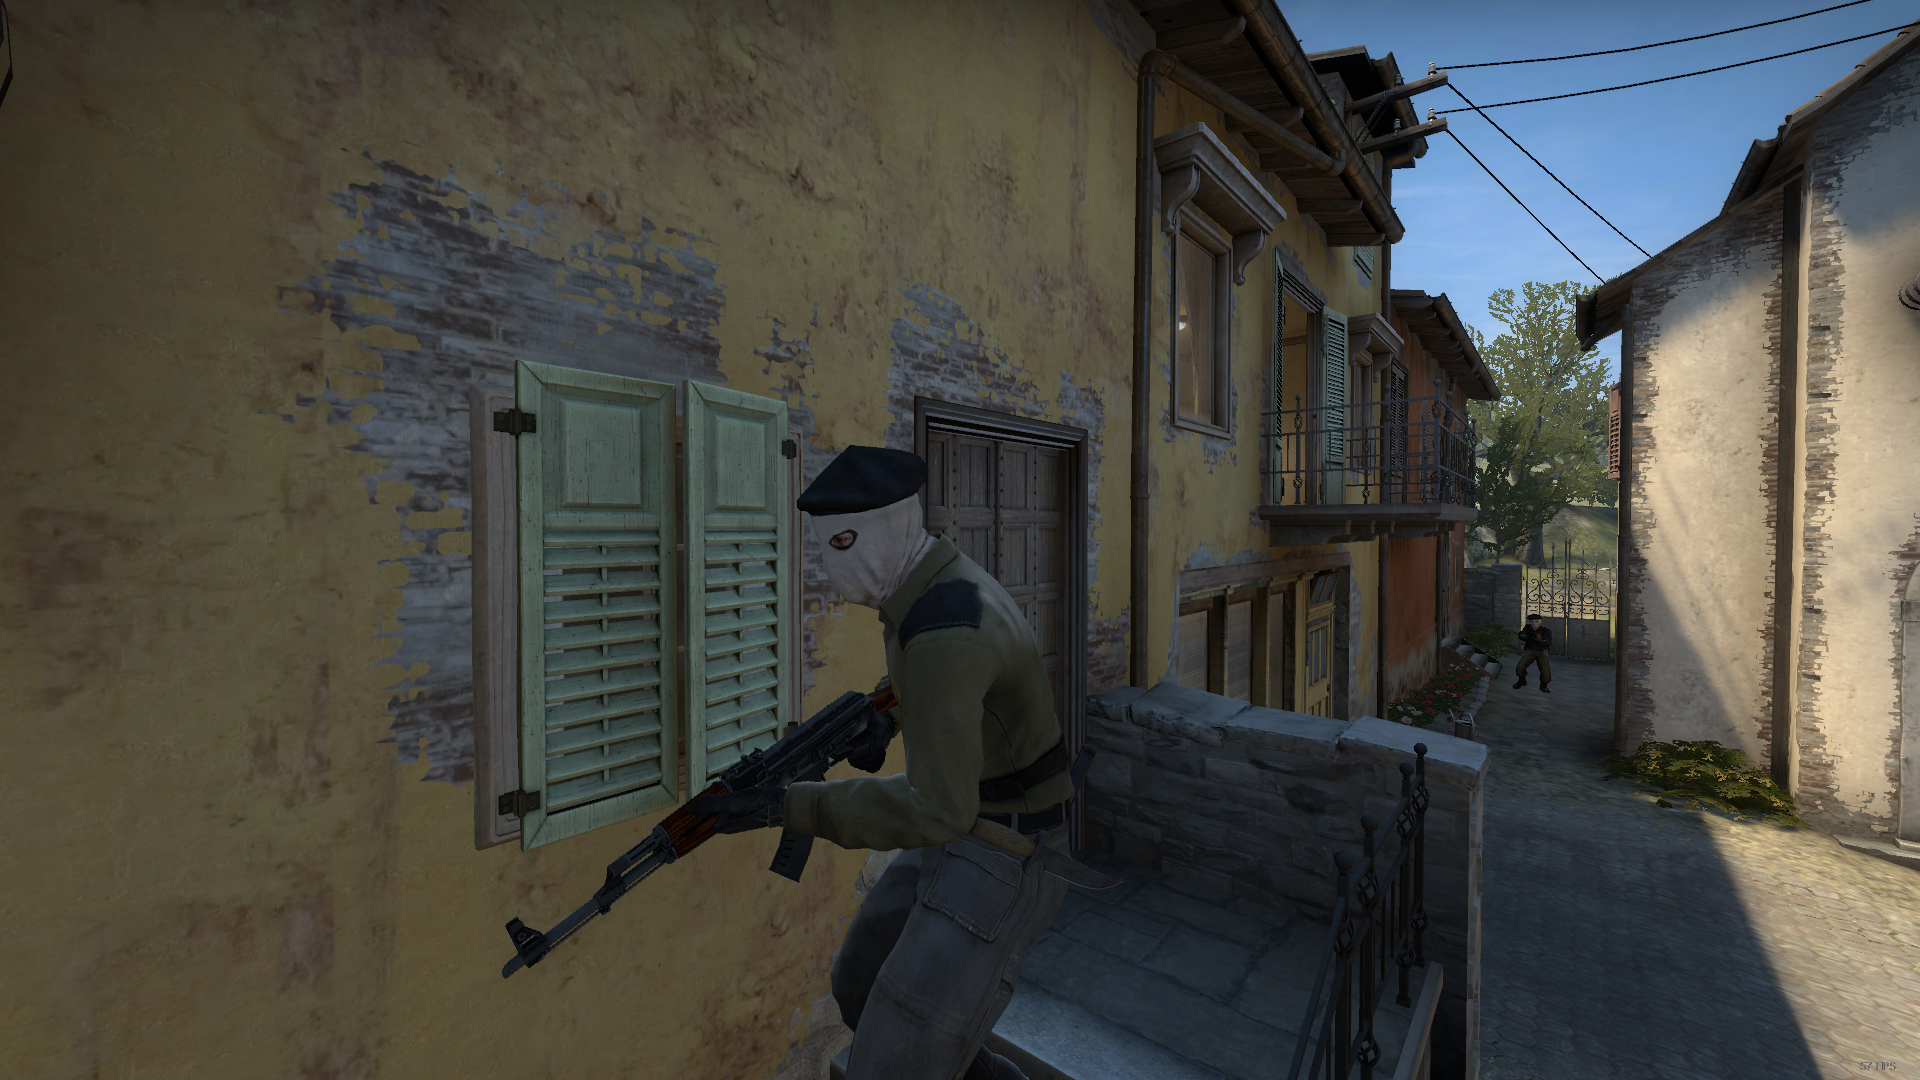t: (709, 444, 1075, 1080), (1513, 615, 1553, 694)
